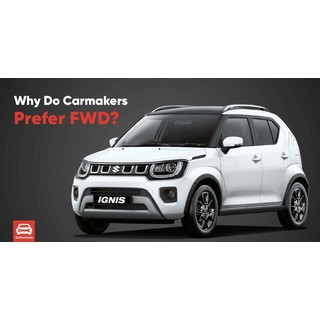car: (71, 104, 310, 234)
